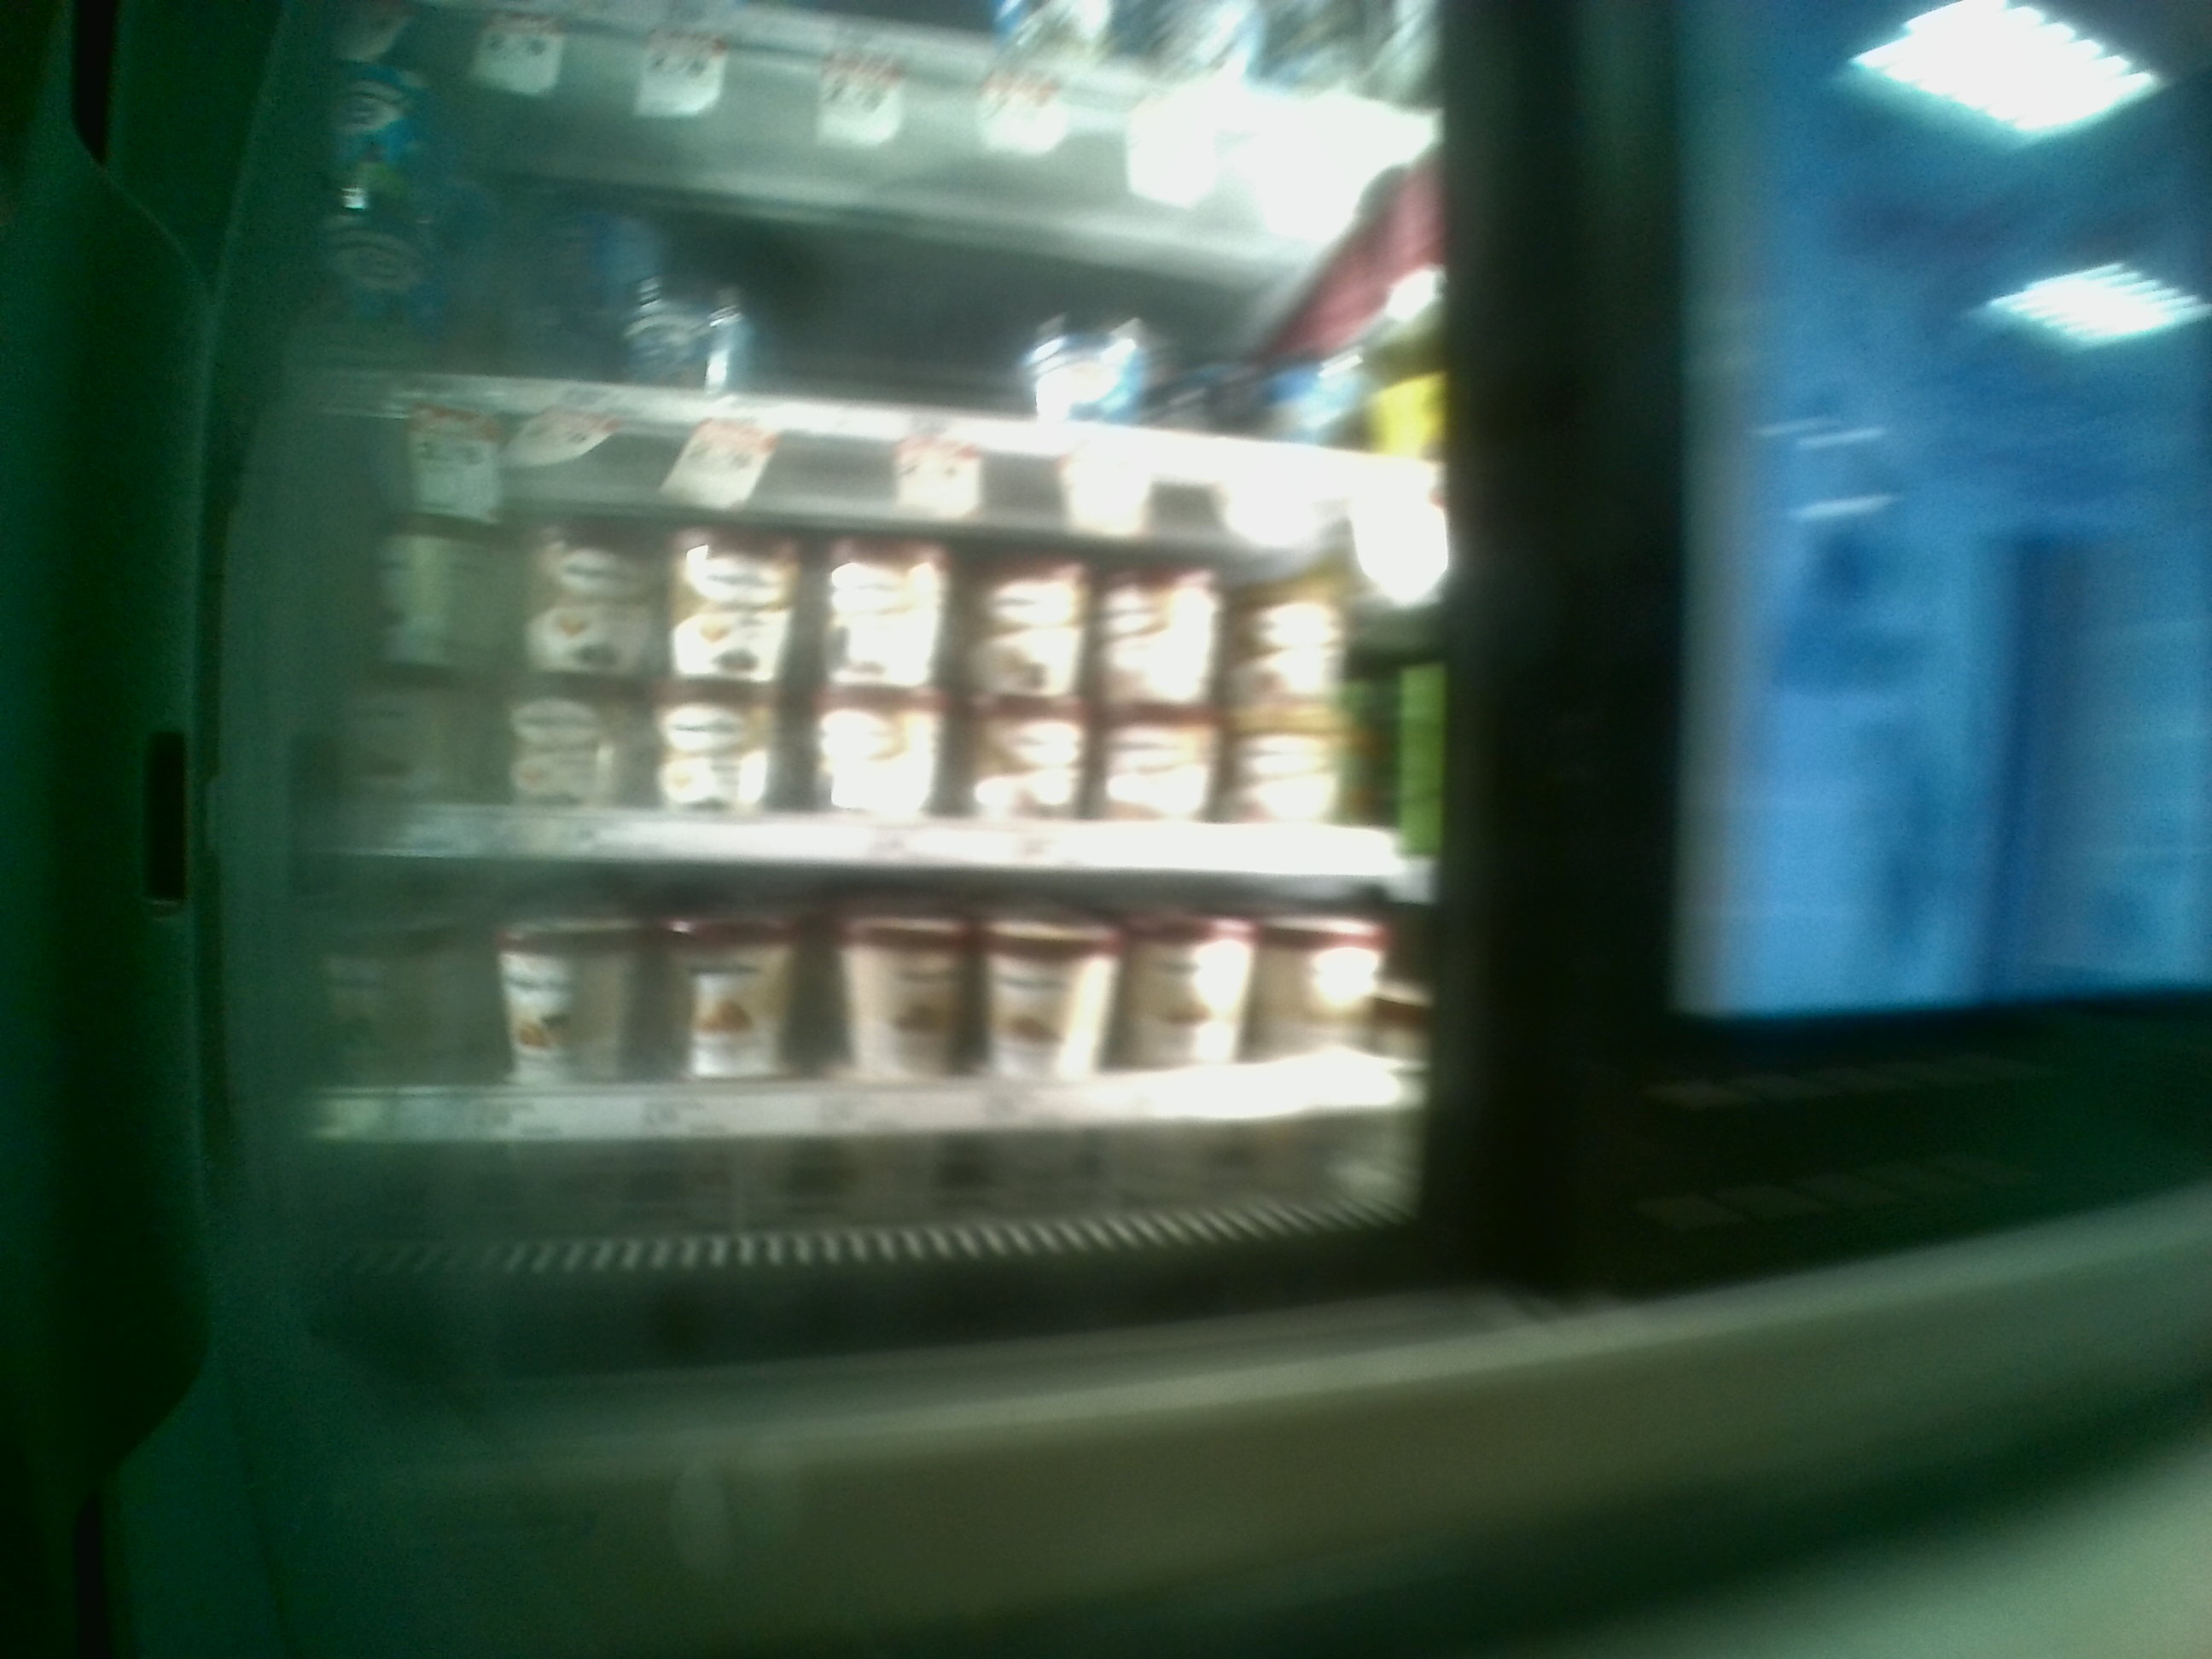shelf: (289, 401, 1439, 863), (291, 863, 1446, 1188)
